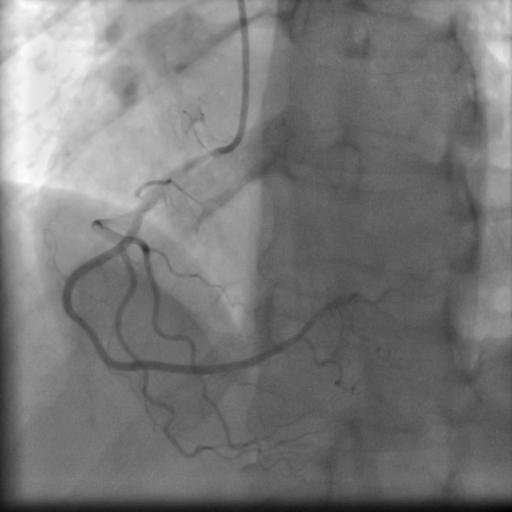Stenosis: (74, 309, 103, 356)
